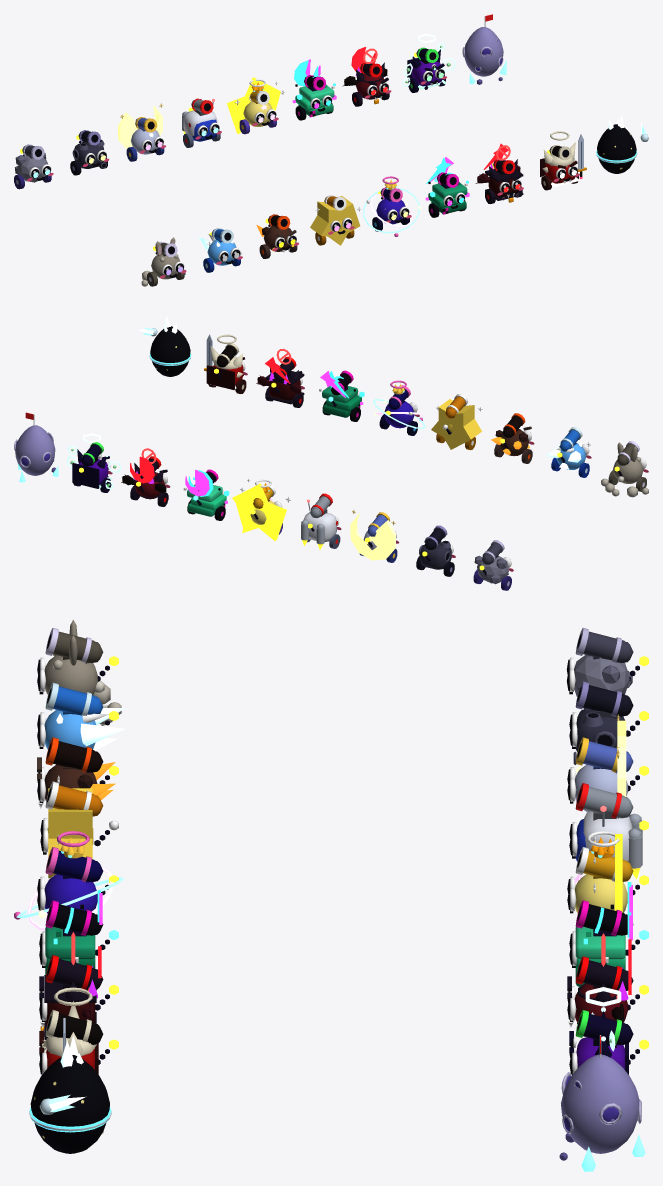
The model's file is moon_minis.fbx.
3 renders of one model, top to bottom at view 1: azimuth 30°, elevation 25°; view 2: azimuth 150°, elevation 25°; view 3: azimuth 270°, elevation 25°, orthographic. The views are drawn at different scales.
Parts seen in each view (by area): view 1: stellar, star, Egg_moon, hugeslayer, lunar, glitchedmoon, forbiddencomet, forbiddenmoon, Egg_comet, galaxy, hugehex, glitchedcomet (+6 smaller); view 2: stellar, star, Egg_moon, hugehex, hugeslayer, Egg_comet, forbiddencomet, lunar, forbiddenmoon, glitchedmoon, glitchedcomet, dust (+6 smaller); view 3: Egg_moon, Egg_comet, galaxy, astro, comet, stellar, dust, glitchedmoon, forbiddencomet, glitchedcomet, forbiddenmoon, moonrock (+6 smaller).
Boxes of the visible parts, box(x1,y1,x2,y2) form: stellar: box(227, 77, 284, 134); star: box(310, 195, 361, 245); Egg_moon: box(462, 14, 506, 84); hugeslayer: box(540, 131, 586, 190); lunar: box(118, 103, 165, 161); glitchedmoon: box(292, 59, 336, 120); forbiddencomet: box(475, 143, 523, 203); forbiddenmoon: box(342, 47, 391, 106); Egg_comet: box(596, 114, 648, 173); galaxy: box(363, 176, 421, 236); hugehex: box(402, 33, 456, 92); glitchedcomet: box(425, 157, 469, 217); stellar: box(232, 478, 291, 540); star: box(431, 394, 482, 450); Egg_moon: box(14, 412, 58, 482); hugehex: box(66, 433, 121, 492); hugeslayer: box(204, 334, 247, 393); Egg_comet: box(138, 315, 191, 376); forbiddencomet: box(256, 348, 304, 407); lunar: box(350, 510, 399, 562); forbiddenmoon: box(121, 448, 170, 506); glitchedmoon: box(183, 469, 229, 520); glitchedcomet: box(319, 370, 364, 421); dust: box(601, 441, 648, 497); Egg_moon: box(559, 1035, 645, 1171); Egg_comet: box(29, 1035, 111, 1153); galaxy: box(14, 831, 124, 930); astro: box(569, 783, 648, 879); comet: box(37, 682, 125, 750); stellar: box(567, 831, 648, 913); dust: box(37, 619, 121, 725); glitchedmoon: box(569, 882, 648, 986); forbiddencomet: box(39, 932, 118, 1039); glitchedcomet: box(39, 890, 118, 974); forbiddenmoon: box(567, 933, 648, 1028); moonrock: box(566, 628, 648, 696).
Size of the model in its own units: 39.1 by 4.59 by 21.56.
